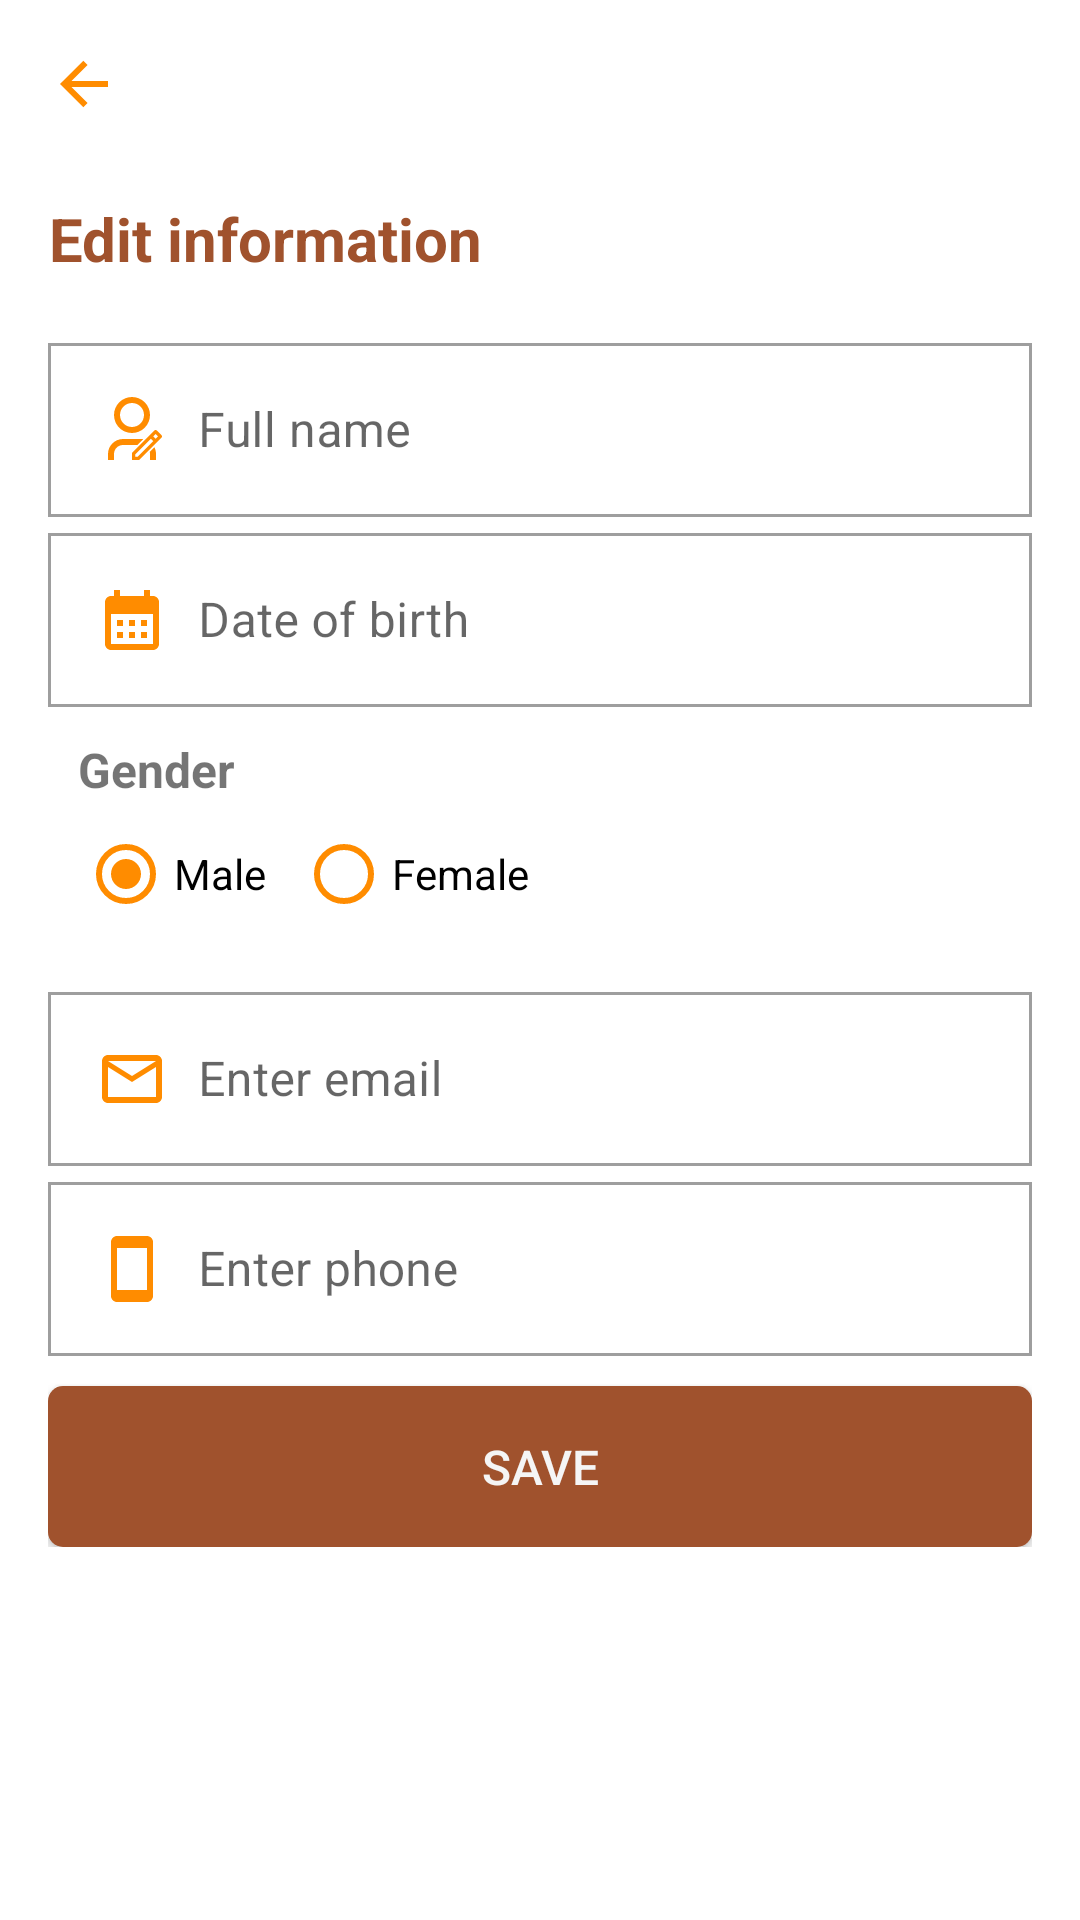

Screen size 1080px x 1920px. Icon name, then its box in pixels as (x1, y1, x2, y2):
back home: (60, 61, 108, 107)
